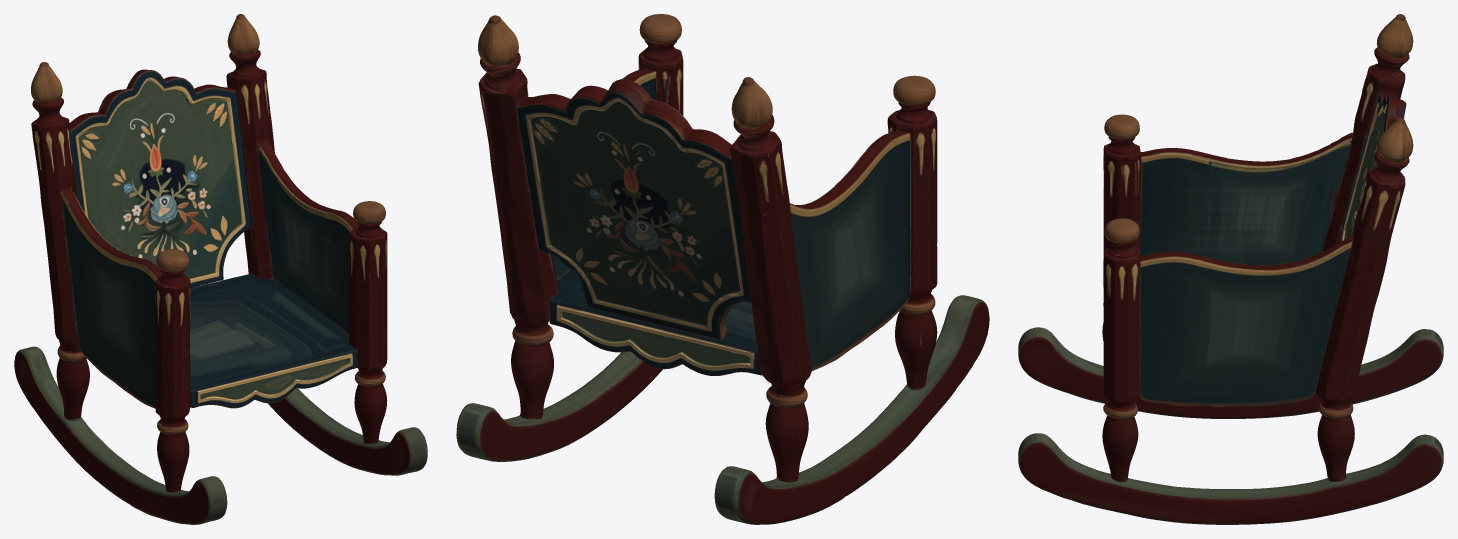
File: rocking-chair.glb
3 views of the same model, side by side, from view 1: azimuth 30°, elevation 25°; view 2: azimuth 150°, elevation 25°; view 3: azimuth 270°, elevation 25° (orthographic). The views are drawn at different scales.
Visible parts, largest first — view 1: temp; view 2: temp; view 3: temp.
Part boxes in pixels (x1,y1,x2,y2): temp: (14,14,427,524); temp: (456,14,989,524); temp: (1018,14,1443,524).
Bounding box in the file's own units: 11.16 × 17.37 × 16.67.
Materials: 1 (1 with a texture image).
